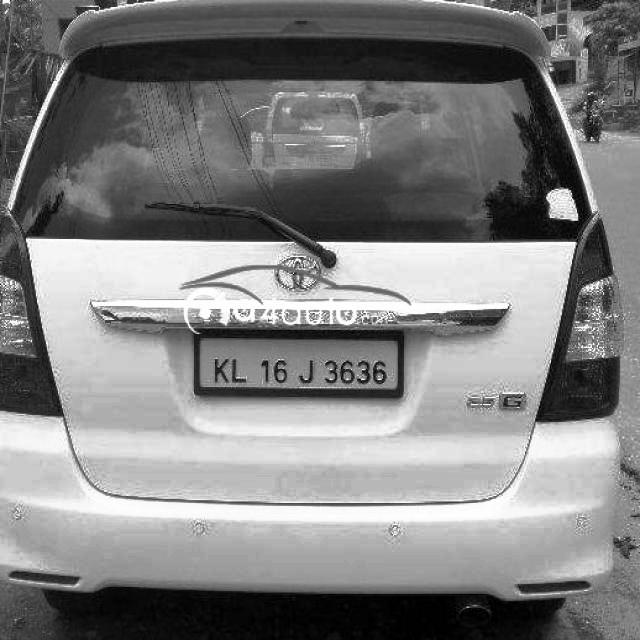Car: (0, 5, 618, 615)
